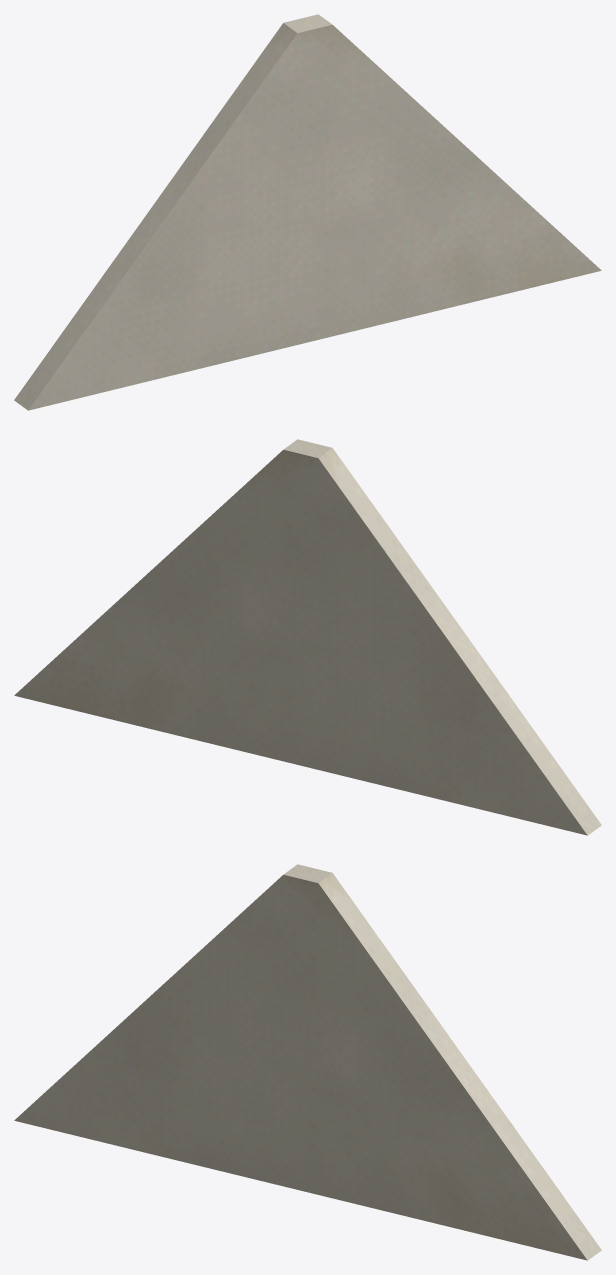
File: Napkin02.fbx
3 views of the same model, one above another, from view 1: azimuth 30°, elevation 25°; view 2: azimuth 150°, elevation 25°; view 3: azimuth 330°, elevation 25° (orthographic).
Parts seen in each view (by area): view 1: Napkin02; view 2: Napkin02; view 3: Napkin02.
Boxes of the visible parts, bbox=[...] form: Napkin02: bbox=[14, 14, 601, 410]; Napkin02: bbox=[14, 439, 601, 835]; Napkin02: bbox=[14, 864, 601, 1260].
Bounding box in the file's own units: 0.3272 × 0.1699 × 0.014.
1 material, 1 textured.
